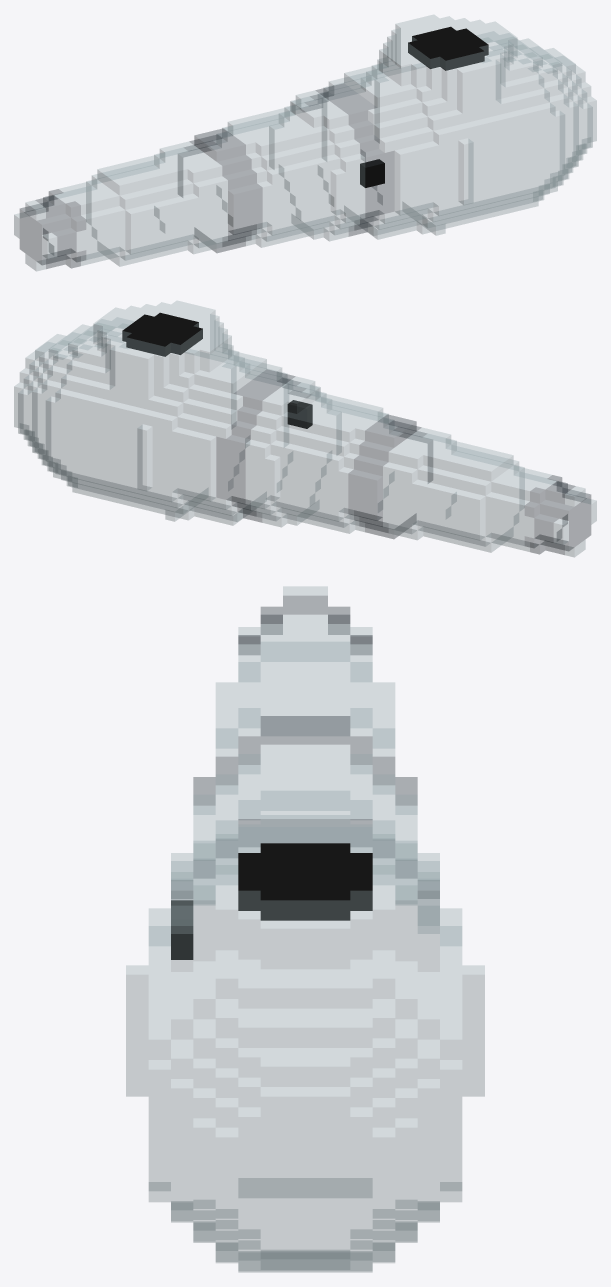
File: pipe_glass.glb
The picture shows the model from 3 angles, top to bottom: view 1: azimuth 30°, elevation 25°; view 2: azimuth 150°, elevation 25°; view 3: azimuth 270°, elevation 25°; orthographic projection. The views are drawn at different scales.
Visible parts, largest first — view 1: pipe_glass:compound; view 2: pipe_glass:compound; view 3: pipe_glass:compound.
Boxes of the visible parts, x1,y1,x2,y2 form: pipe_glass:compound: (14,14,596,271); pipe_glass:compound: (14,300,596,557); pipe_glass:compound: (126,586,484,1272).
Bounding box in the file's own units: 0.112 × 0.034 × 0.032.
